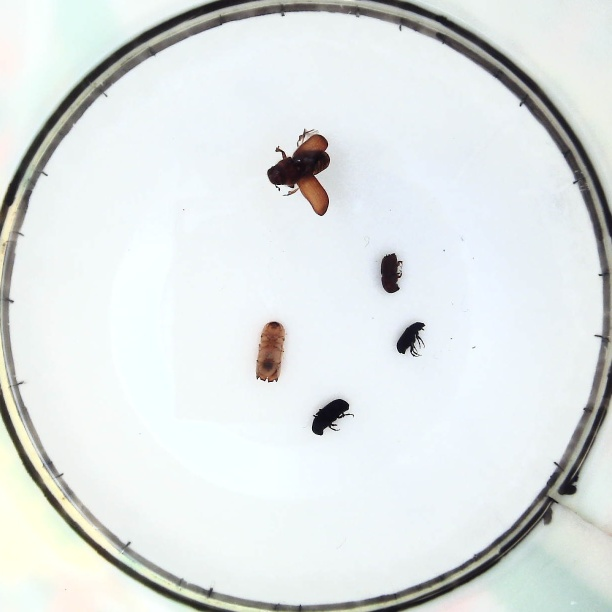armandi: (310, 398, 350, 433)
boerner: (256, 320, 284, 384)
coleoptera: (397, 320, 426, 357)
leconte: (266, 129, 333, 215)
linnaeus: (379, 252, 403, 293)
